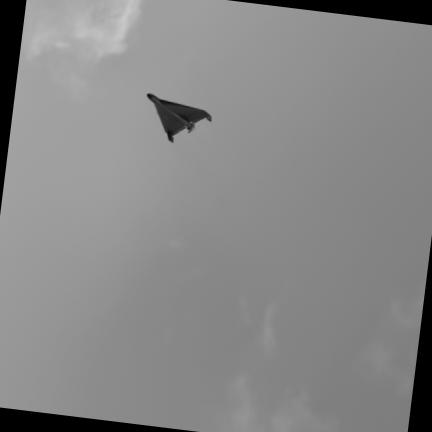Shahed: (146, 94, 209, 141)
